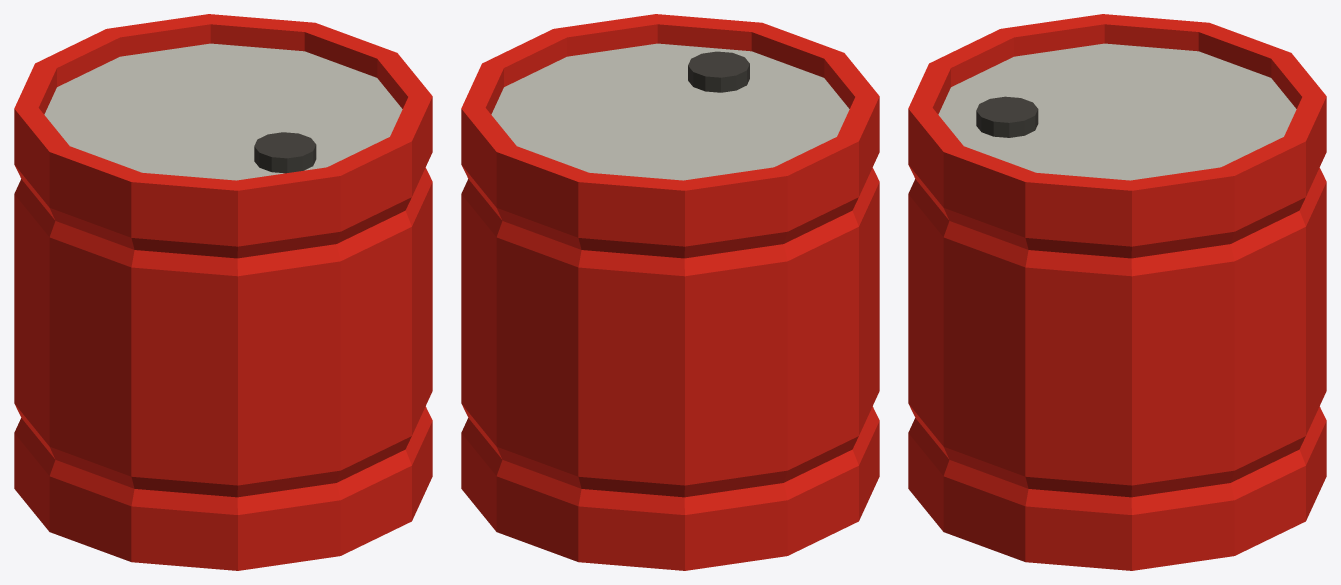
3 renders of one model, left to right at view 1: azimuth 30°, elevation 25°; view 2: azimuth 150°, elevation 25°; view 3: azimuth 270°, elevation 25°, orthographic.
Visible parts, largest first — view 1: Цилиндр.012; view 2: Цилиндр.012; view 3: Цилиндр.012.
Boxes of the visible parts, x1,y1,x2,y2 form: Цилиндр.012: (14, 14, 432, 570); Цилиндр.012: (461, 14, 879, 570); Цилиндр.012: (908, 14, 1326, 570).
Size of the model in its own units: 99.76 by 100 by 99.76.
